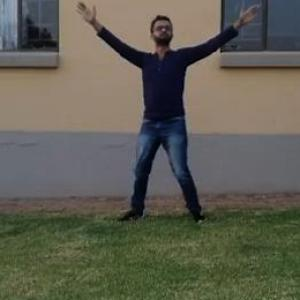takeoff: (52, 0, 248, 249)
